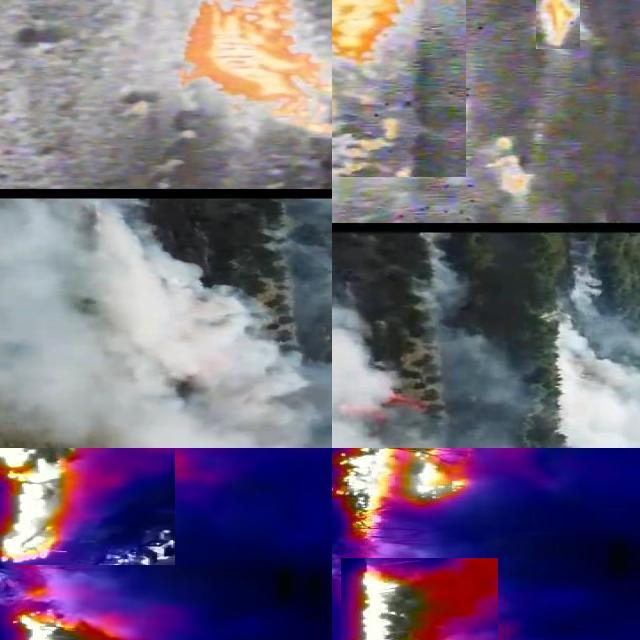fire: (181, 1, 333, 164), (333, 1, 467, 177), (1, 449, 176, 565), (333, 449, 530, 547), (342, 558, 499, 640), (1, 571, 148, 640), (490, 137, 536, 197), (537, 1, 581, 49), (383, 392, 427, 408)
